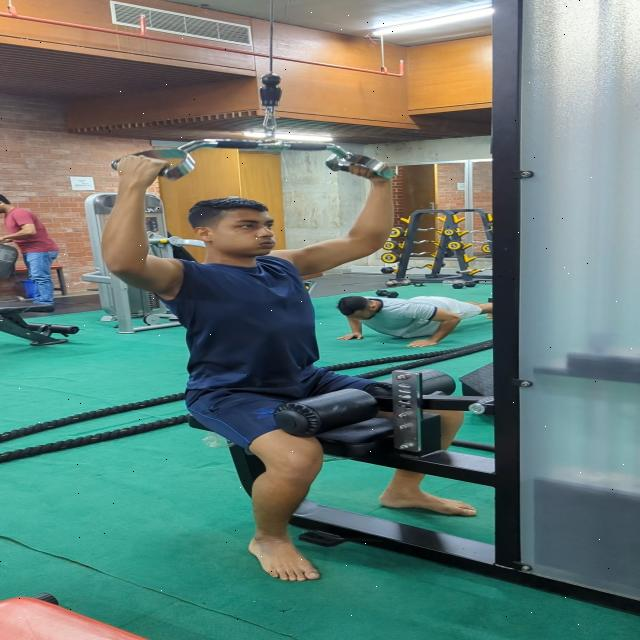Normal_LatPulldown: (104, 155, 462, 585)
